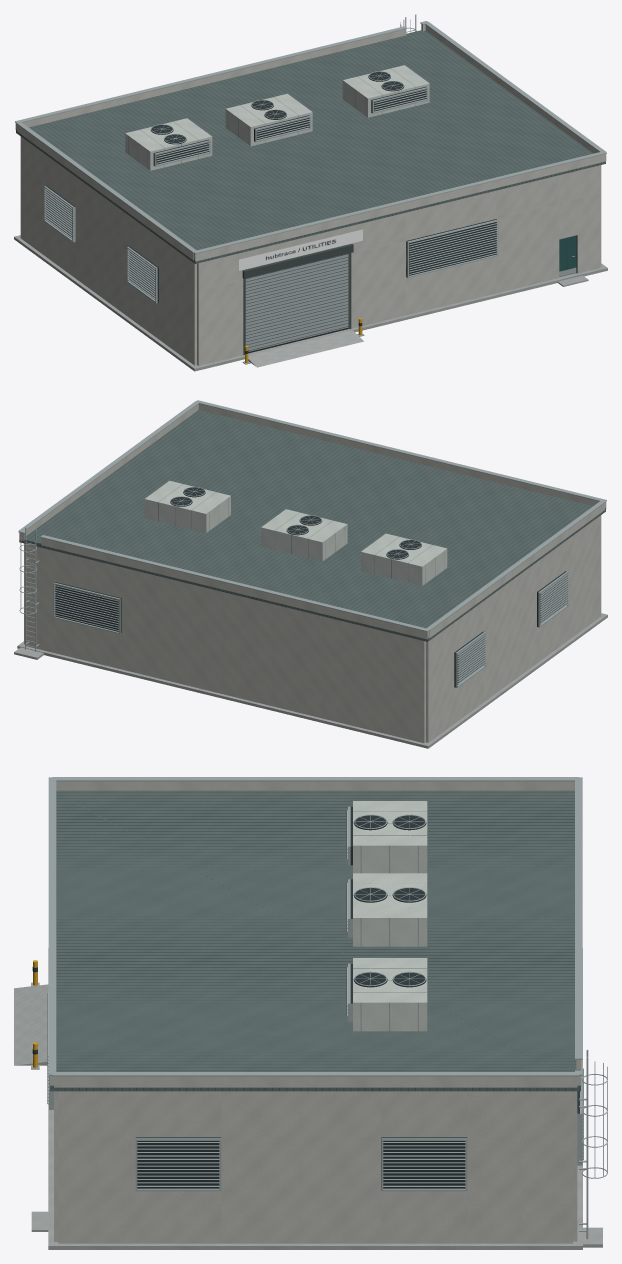
Rendered from factory-utility-building.glb.
3 renders of one model, top to bottom at view 1: azimuth 30°, elevation 25°; view 2: azimuth 150°, elevation 25°; view 3: azimuth 270°, elevation 25°, orthographic. The views are drawn at different scales.
Visible parts, largest first — view 1: utility_flat_roof_standing-seam-roof, utility_front_facade_light-precast-concrete, factory-utility-building_light-precast-concrete, utility_flat_roof_light-precast-concrete, utility_flat_roof_galvanized-steel, shutter_utility-service-bay_brushed-metal-panels, utility_flat_roof_insulated-light-cladding, factory-utility-building_cast-concrete, utility_flat_roof_dark-service-metal, shutter_utility-service-bay_powder-coated-frame, utility_front_facade_dark-service-metal, utility_front_facade_galvanized-steel (+5 smaller); view 2: utility_flat_roof_standing-seam-roof, factory-utility-building_light-precast-concrete, utility_flat_roof_insulated-light-cladding, utility_flat_roof_light-precast-concrete, utility_flat_roof_galvanized-steel, factory-utility-building_galvanized-steel, factory-utility-building_cast-concrete, factory-utility-building_dark-service-metal, utility_flat_roof_dark-service-metal; view 3: utility_flat_roof_standing-seam-roof, factory-utility-building_light-precast-concrete, utility_flat_roof_insulated-light-cladding, utility_flat_roof_galvanized-steel, utility_flat_roof_light-precast-concrete, factory-utility-building_cast-concrete, factory-utility-building_galvanized-steel, factory-utility-building_dark-service-metal, utility_flat_roof_dark-service-metal, utility_front_facade_light-precast-concrete.
Part boxes in pixels (<box>): utility_flat_roof_standing-seam-roof: <box>16,30,605,263</box>; utility_front_facade_light-precast-concrete: <box>197,165,600,365</box>; factory-utility-building_light-precast-concrete: <box>20,136,601,365</box>; utility_flat_roof_light-precast-concrete: <box>15,24,606,261</box>; utility_flat_roof_galvanized-steel: <box>15,21,606,253</box>; shutter_utility-service-bay_brushed-metal-panels: <box>245,254,348,351</box>; utility_flat_roof_insulated-light-cladding: <box>125,65,429,170</box>; factory-utility-building_cast-concrete: <box>14,235,607,371</box>; utility_flat_roof_dark-service-metal: <box>150,72,426,165</box>; shutter_utility-service-bay_powder-coated-frame: <box>245,253,348,350</box>; utility_front_facade_dark-service-metal: <box>406,219,496,277</box>; utility_front_facade_galvanized-steel: <box>406,219,498,277</box>; utility_flat_roof_standing-seam-roof: <box>19,410,605,641</box>; factory-utility-building_light-precast-concrete: <box>24,515,601,743</box>; utility_flat_roof_insulated-light-cladding: <box>144,480,447,585</box>; utility_flat_roof_light-precast-concrete: <box>19,404,606,639</box>; utility_flat_roof_galvanized-steel: <box>18,400,606,631</box>; factory-utility-building_galvanized-steel: <box>19,527,568,687</box>; factory-utility-building_cast-concrete: <box>14,613,607,748</box>; factory-utility-building_dark-service-metal: <box>54,571,566,687</box>; utility_flat_roof_dark-service-metal: <box>170,487,421,559</box>; utility_flat_roof_standing-seam-roof: <box>50,790,580,1091</box>; factory-utility-building_light-precast-concrete: <box>58,1091,577,1243</box>; utility_flat_roof_insulated-light-cladding: <box>353,801,427,1031</box>; utility_flat_roof_galvanized-steel: <box>48,777,582,1076</box>; utility_flat_roof_light-precast-concrete: <box>50,781,581,1087</box>; factory-utility-building_cast-concrete: <box>14,948,602,1249</box>; factory-utility-building_galvanized-steel: <box>31,982,607,1239</box>; factory-utility-building_dark-service-metal: <box>32,967,579,1189</box>; utility_flat_roof_dark-service-metal: <box>350,806,426,1003</box>; utility_front_facade_light-precast-concrete: <box>54,1091,58,1241</box>.
Bounding box in the file's own units: 24.74 × 7.51 × 20.77.
Materials: 11 (11 with a texture image).
